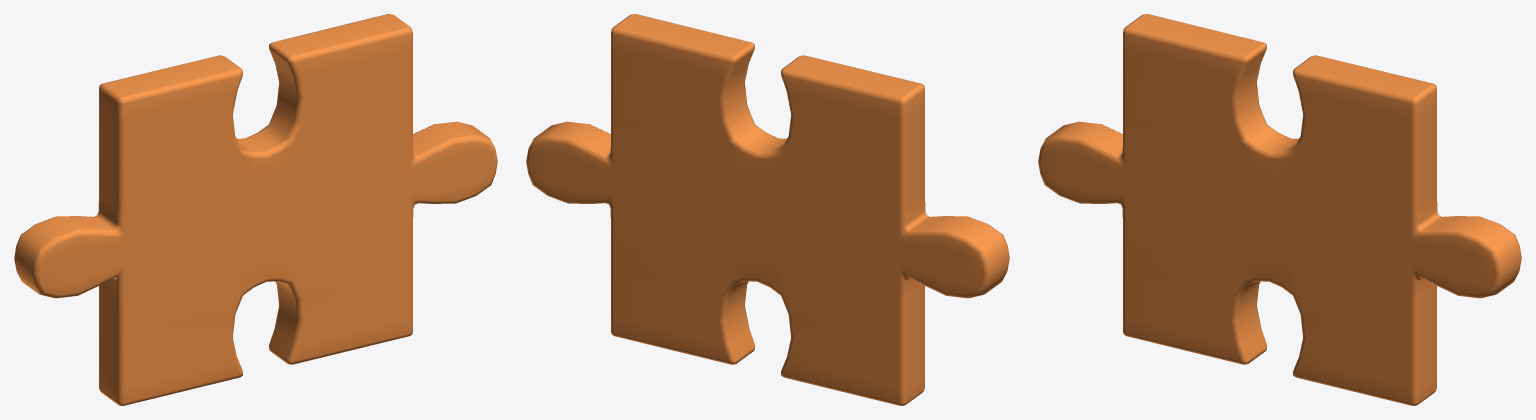
File: Puzzle_1.glb
3 views of the same model, side by side, from view 1: azimuth 30°, elevation 25°; view 2: azimuth 150°, elevation 25°; view 3: azimuth 330°, elevation 25° (orthographic).
Visible parts, largest first — view 1: Puzzle_1; view 2: Puzzle_1; view 3: Puzzle_1.
Boxes of the visible parts, bbox=[...] form: Puzzle_1: bbox=[14, 14, 497, 405]; Puzzle_1: bbox=[526, 14, 1009, 405]; Puzzle_1: bbox=[1038, 14, 1521, 405].
Bounding box in the file's own units: 0.9005 × 0.5723 × 0.0779.
Materials: 1 (1 with a texture image).
